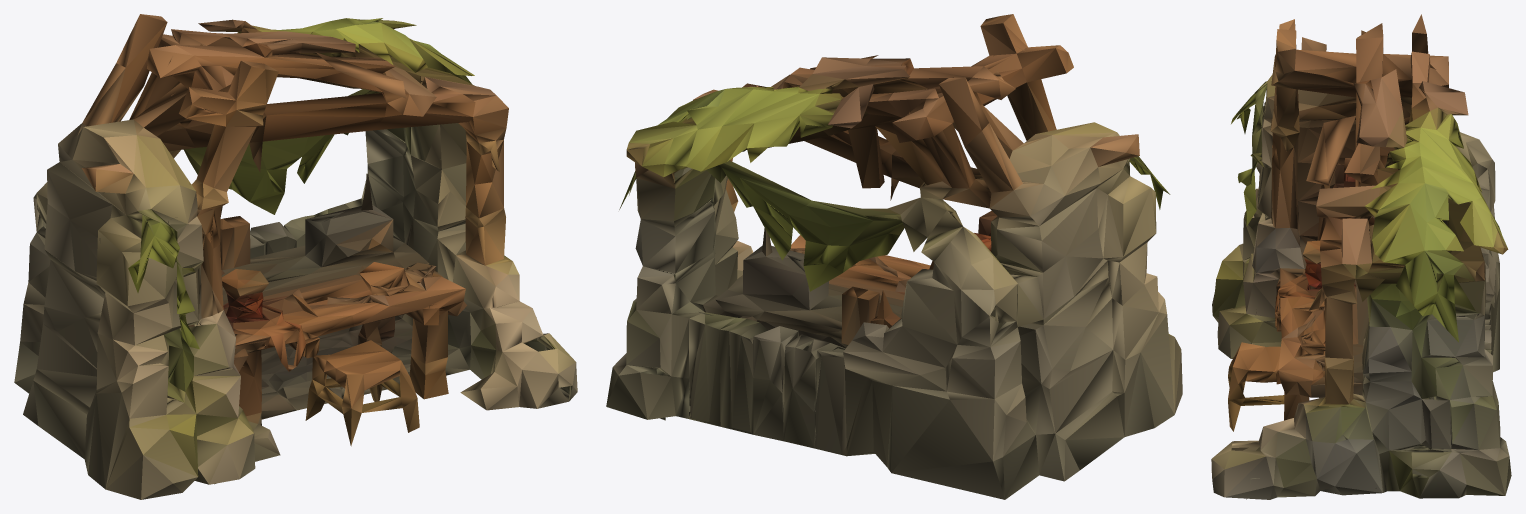
The model's file is building-workshop.glb.
The picture shows the model from 3 angles, left to right: view 1: azimuth 30°, elevation 25°; view 2: azimuth 150°, elevation 25°; view 3: azimuth 270°, elevation 25°; orthographic projection. The views are drawn at different scales.
Parts seen in each view (by area): view 1: 0_workshop; view 2: 0_workshop; view 3: 0_workshop.
Boxes of the visible parts, left/top/right/bottom form: 0_workshop: left=14, top=14, right=577, bottom=499; 0_workshop: left=606, top=14, right=1182, bottom=499; 0_workshop: left=1211, top=14, right=1511, bottom=499.
Size of the model in its own units: 5.44 by 4.38 by 3.44.
